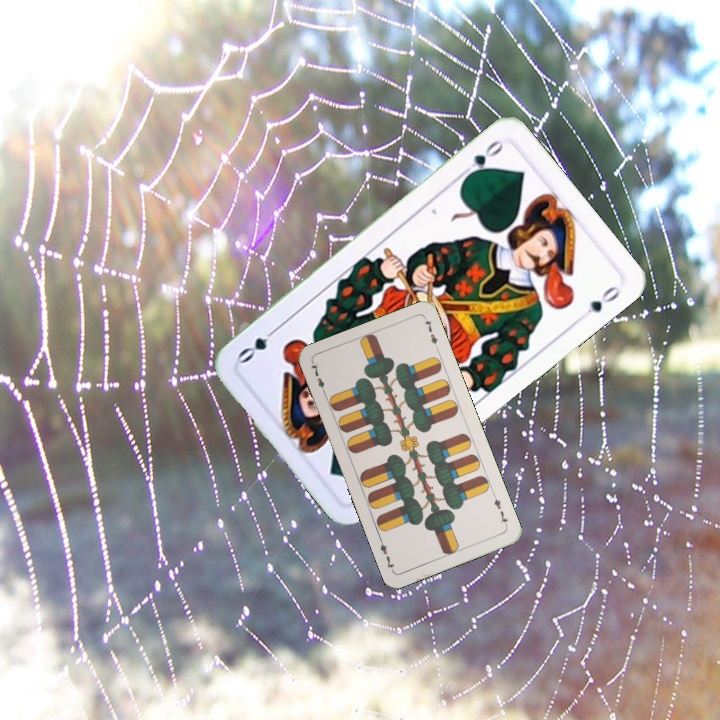E7: (307, 359, 329, 398), (489, 490, 510, 529)
GO: (456, 136, 506, 182)
